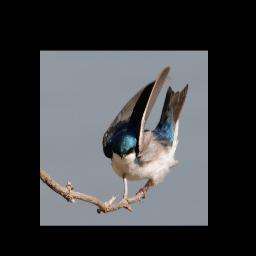Swallow: (102, 65, 190, 203)
